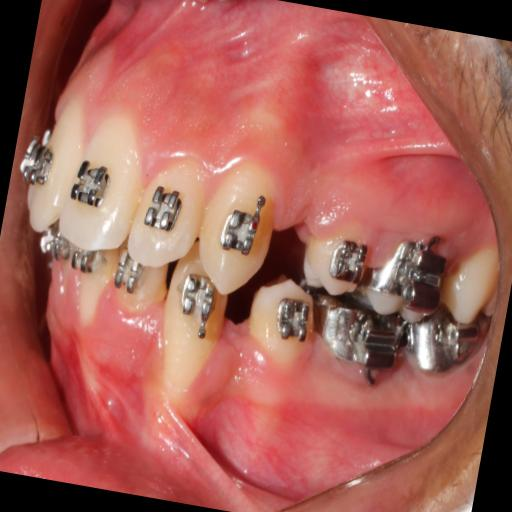correct_brace: (293, 212, 374, 306), (244, 275, 322, 362), (212, 206, 266, 262), (66, 154, 116, 212), (142, 182, 185, 238), (272, 295, 314, 341)
incorrect_brace: (125, 152, 210, 278), (326, 232, 370, 286)
